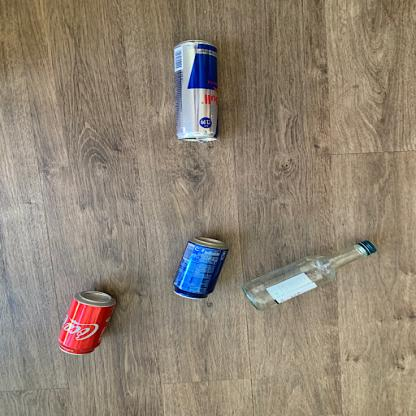trash: (243, 239, 380, 312), (171, 38, 225, 148), (56, 285, 120, 358), (168, 232, 231, 304)
